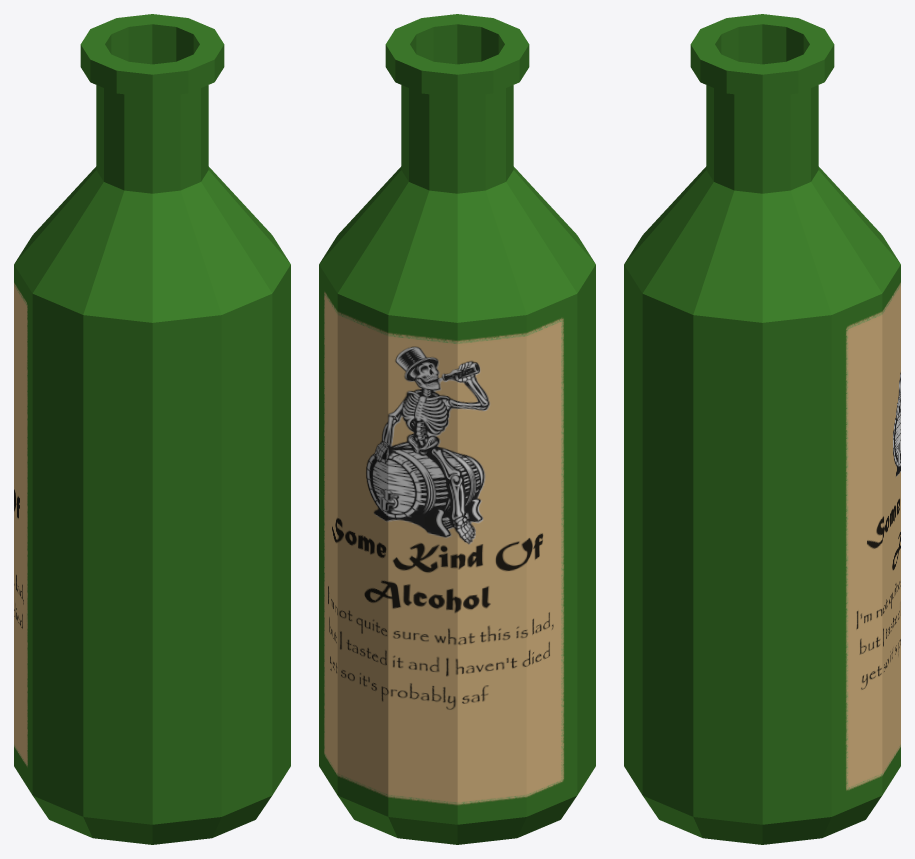
Rendered from Bottle.fbx.
3 views of the same model, side by side, from view 1: azimuth 30°, elevation 25°; view 2: azimuth 150°, elevation 25°; view 3: azimuth 270°, elevation 25° (orthographic).
Visible parts, largest first — view 1: Bottle; view 2: Bottle; view 3: Bottle.
Boxes of the visible parts, x1=… form: Bottle: x1=14, y1=14, x2=290, y2=844; Bottle: x1=319, y1=14, x2=595, y2=844; Bottle: x1=624, y1=14, x2=900, y2=844.
Bounding box in the file's own units: 0.5 × 1.49 × 0.5.
1 material, 1 textured.
